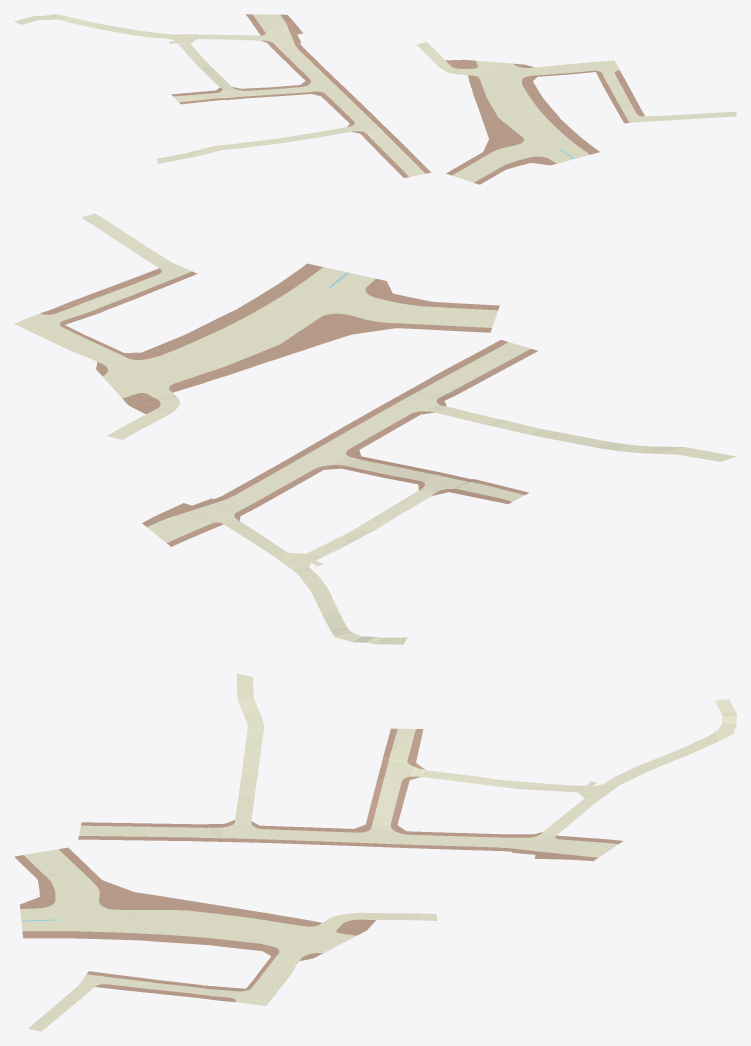
Rendered from data58.glb.
The picture shows the model from 3 angles, top to bottom: view 1: azimuth 30°, elevation 25°; view 2: azimuth 150°, elevation 25°; view 3: azimuth 270°, elevation 25°; orthographic projection. The views are drawn at different scales.
Bounding box in the file's own units: 297 × 11.23 × 272.
